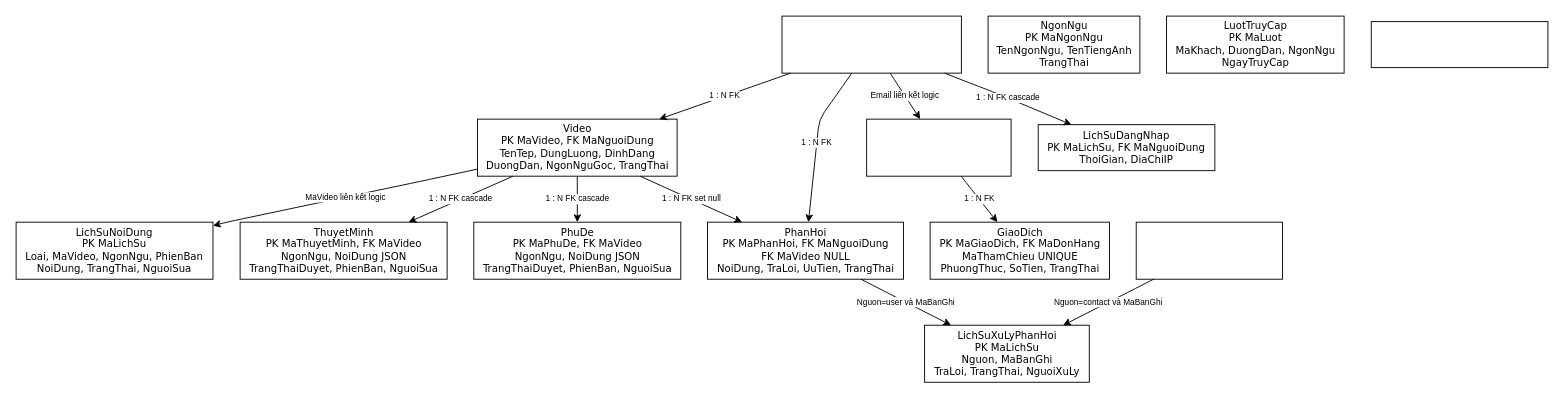
This 1564x398 diagram has some shape labels left out. Here are the shapes that lost their labels. From the top down, the centre of each, then its label:
At pixel 871 44: "NguoiDung PK MaNguoiDung Email UNIQUE, HoTen MatKhauBam, VaiTro, TrangThai".
At pixel 1459 44: "LuotQuetQR PK MaLuotQuet MaKhach, NgonNgu, NgayQuet".
At pixel 938 147: "DonHang PK MaDonHang EmailKhachHang, SoTien LoaiTien, TrangThai".
At pixel 1208 250: "LienHe PK MaLienHe HoTen, Email, NoiDung TraLoi, UuTien, TrangThai".
